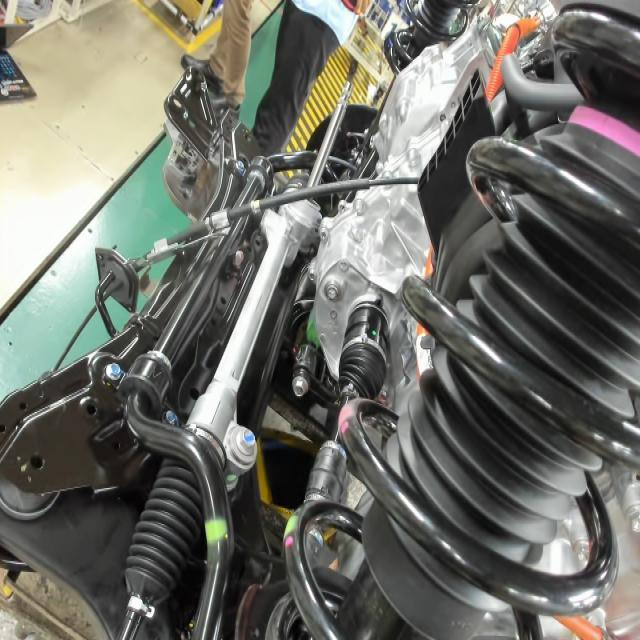Bar Stabilizer-HJ: (202, 510, 232, 550)
Bumper-PK: (567, 88, 640, 178)
